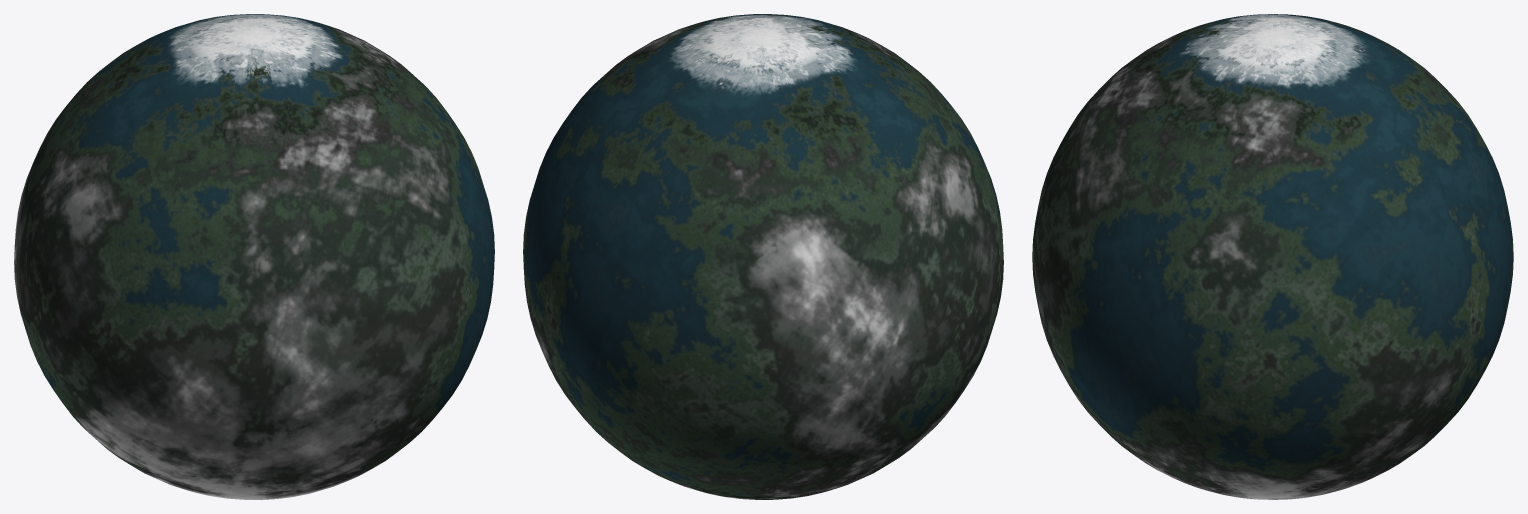
File: Planet5.fbx
3 views of the same model, side by side, from view 1: azimuth 30°, elevation 25°; view 2: azimuth 150°, elevation 25°; view 3: azimuth 270°, elevation 25° (orthographic).
Visible parts, largest first — view 1: pasted__pasted__pSphere2; view 2: pasted__pasted__pSphere2; view 3: pasted__pasted__pSphere2.
Part boxes in pixels (box(x1,y1,x2,y2)): pasted__pasted__pSphere2: box(14, 14, 494, 499); pasted__pasted__pSphere2: box(523, 14, 1003, 499); pasted__pasted__pSphere2: box(1032, 14, 1513, 499).
Bounding box in the file's own units: 1.97 × 2 × 1.97.
1 material, 1 textured.
